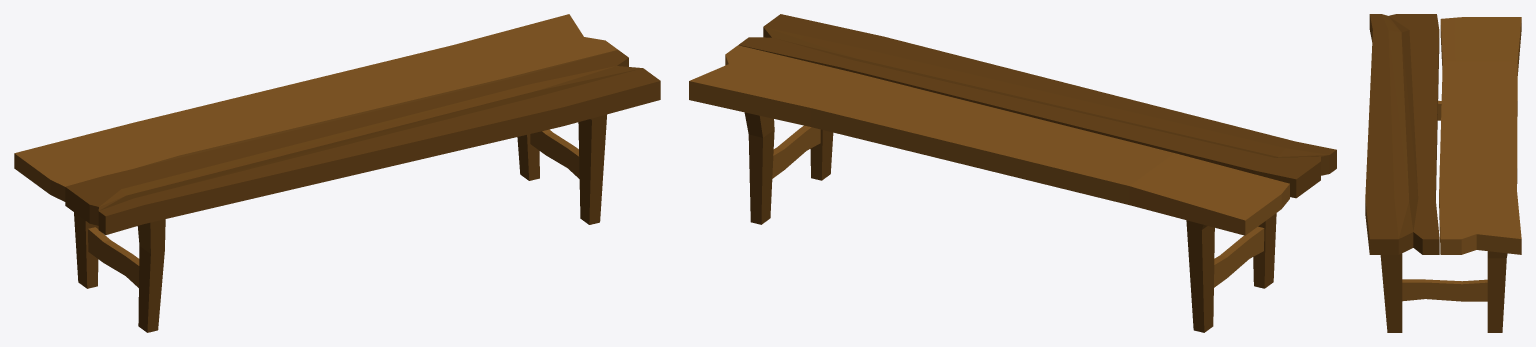
File: bench.fbx
The picture shows the model from 3 angles, left to right: view 1: azimuth 30°, elevation 25°; view 2: azimuth 150°, elevation 25°; view 3: azimuth 270°, elevation 25°; orthographic projection. The views are drawn at different scales.
Parts seen in each view (by area): view 1: Bench; view 2: Bench; view 3: Bench.
Boxes of the visible parts, <box> form: Bench: <box>14,14,660,332</box>; Bench: <box>689,14,1336,332</box>; Bench: <box>1365,14,1521,332</box>.
Bounding box in the file's own units: 214 × 50.56 × 62.8.
